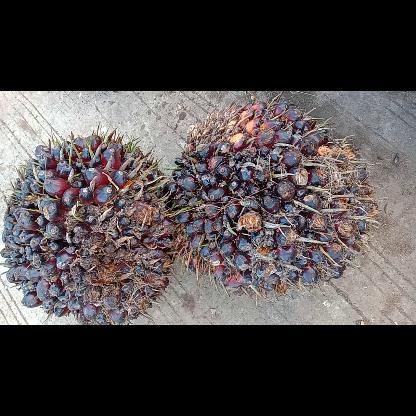TBS mentah: (170, 100, 378, 292), (0, 134, 176, 324)
